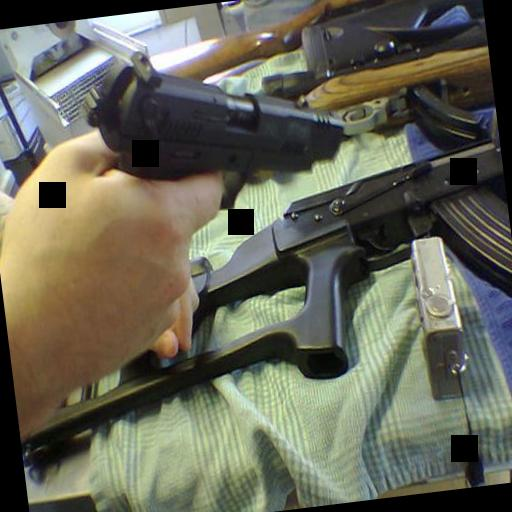Handgun: (66, 26, 352, 221)
